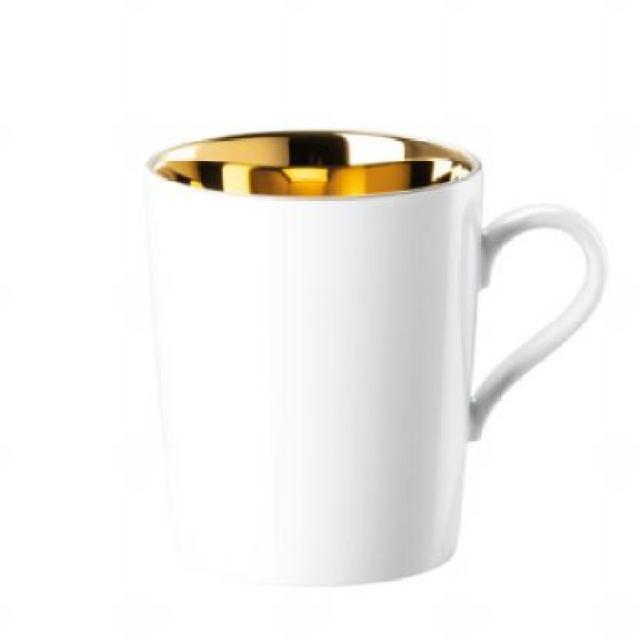cup: (135, 120, 617, 598)
